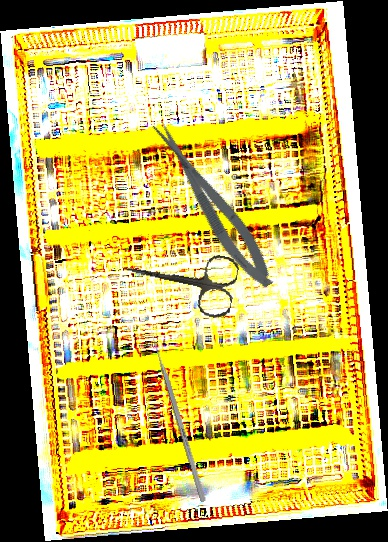Iris Scissors: (117, 236, 241, 321)
Micro Scissor: (146, 112, 282, 296)
Pusher: (148, 329, 207, 503)
